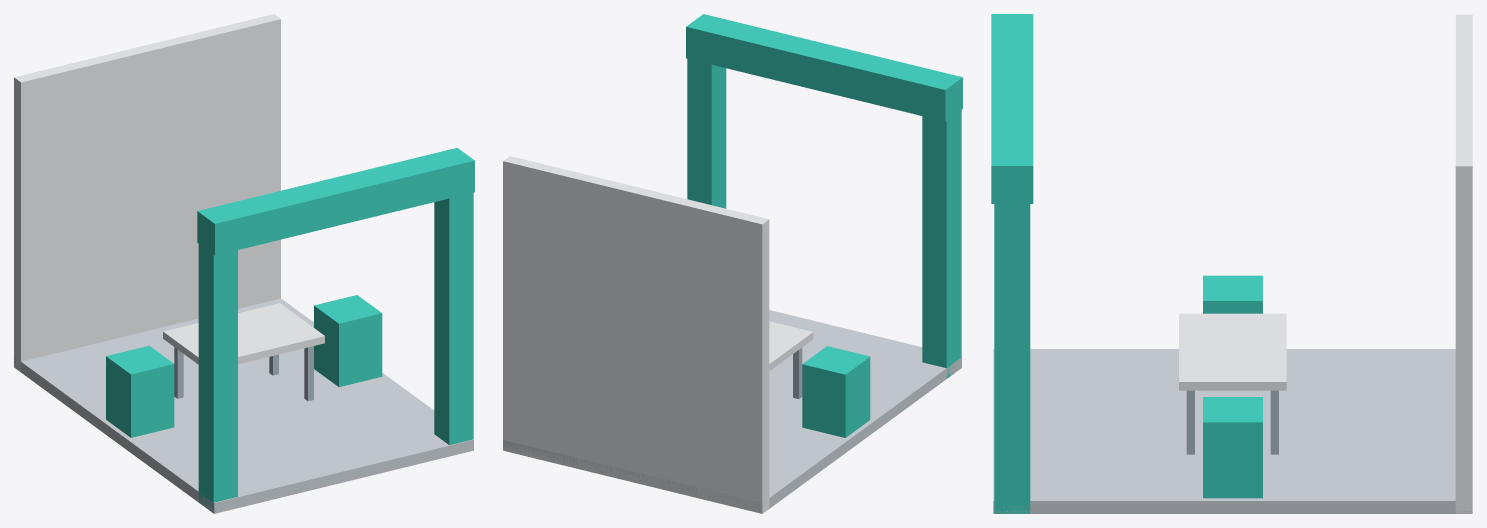
3 renders of one model, left to right at view 1: azimuth 30°, elevation 25°; view 2: azimuth 150°, elevation 25°; view 3: azimuth 270°, elevation 25°, orthographic. The views are drawn at different scales.
Visible parts, largest first — view 1: Exhibition Booth Concept; view 2: Exhibition Booth Concept; view 3: Exhibition Booth Concept.
Part boxes in pixels (x1,y1,x2,y2): Exhibition Booth Concept: [14, 14, 474, 513]; Exhibition Booth Concept: [503, 14, 962, 513]; Exhibition Booth Concept: [991, 14, 1472, 513].
Size of the model in its own units: 3 by 3.2 by 4.02.
